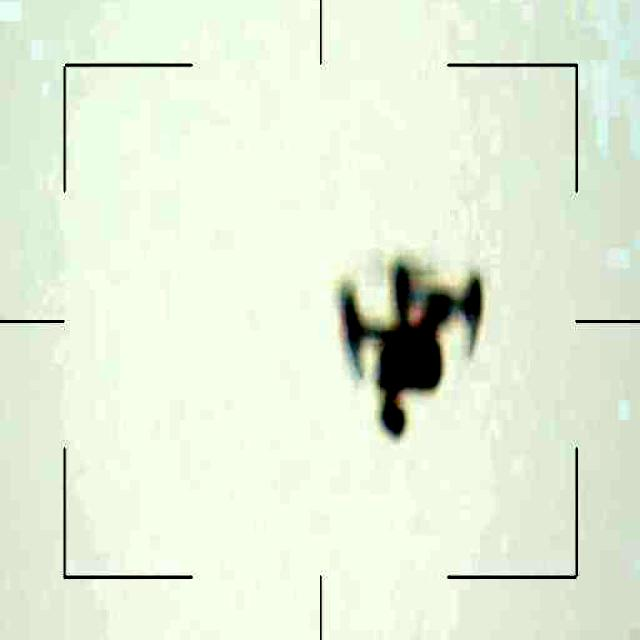bird: (330, 255, 489, 436)
